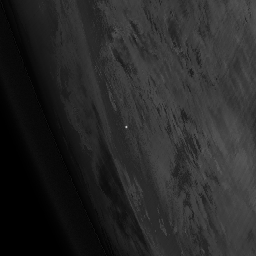Target: (123, 123, 130, 130)
